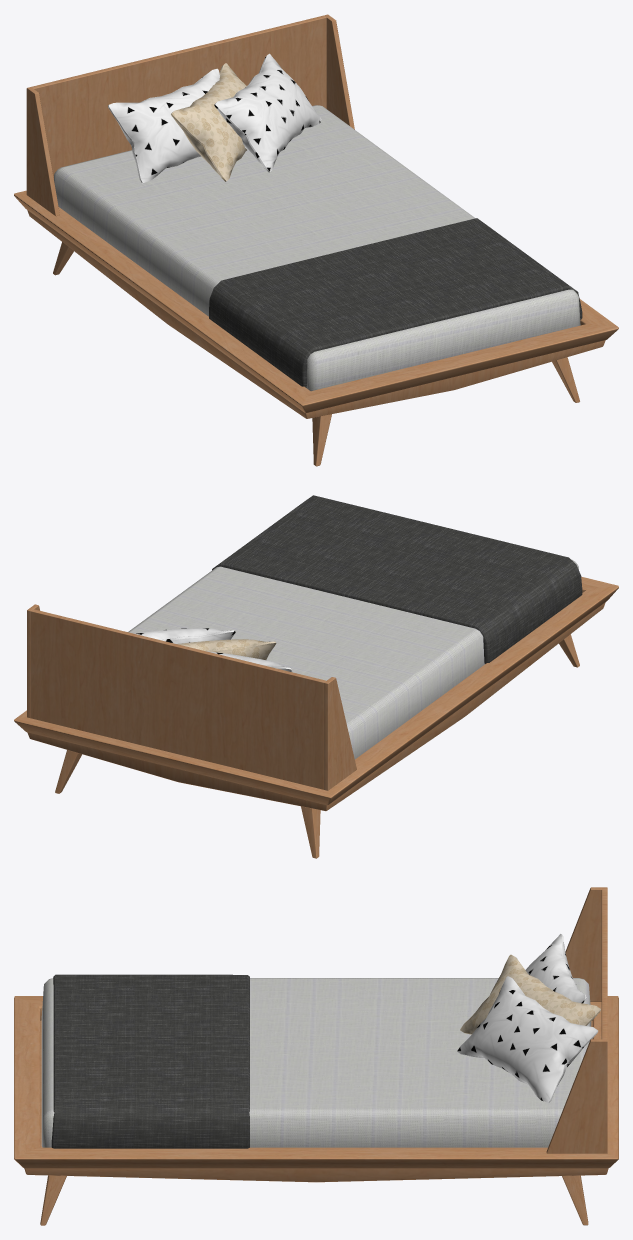
The model's file is bed (1).glb.
3 renders of one model, top to bottom at view 1: azimuth 30°, elevation 25°; view 2: azimuth 150°, elevation 25°; view 3: azimuth 270°, elevation 25°, orthographic. The views are drawn at different scales.
Visible parts, largest first — view 1: polySurface2; view 2: polySurface2; view 3: polySurface2.
Boxes of the visible parts, x1,y1,x2,y2 form: polySurface2: [14, 14, 618, 466]; polySurface2: [14, 495, 618, 858]; polySurface2: [14, 887, 618, 1225].
Size of the model in its own units: 1.39 by 0.7751 by 2.19.
4 materials, 4 textured.
